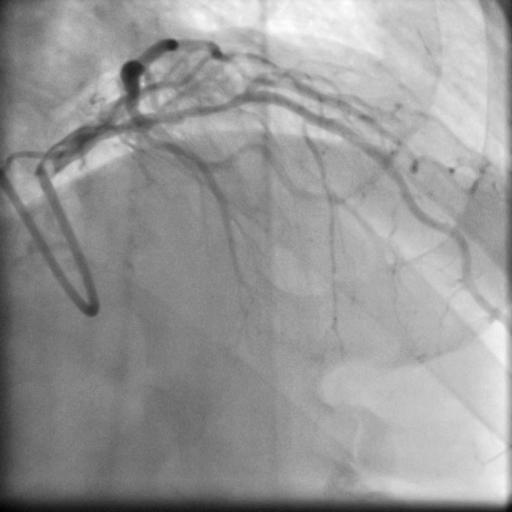Stenosis: (175, 99, 241, 118)
